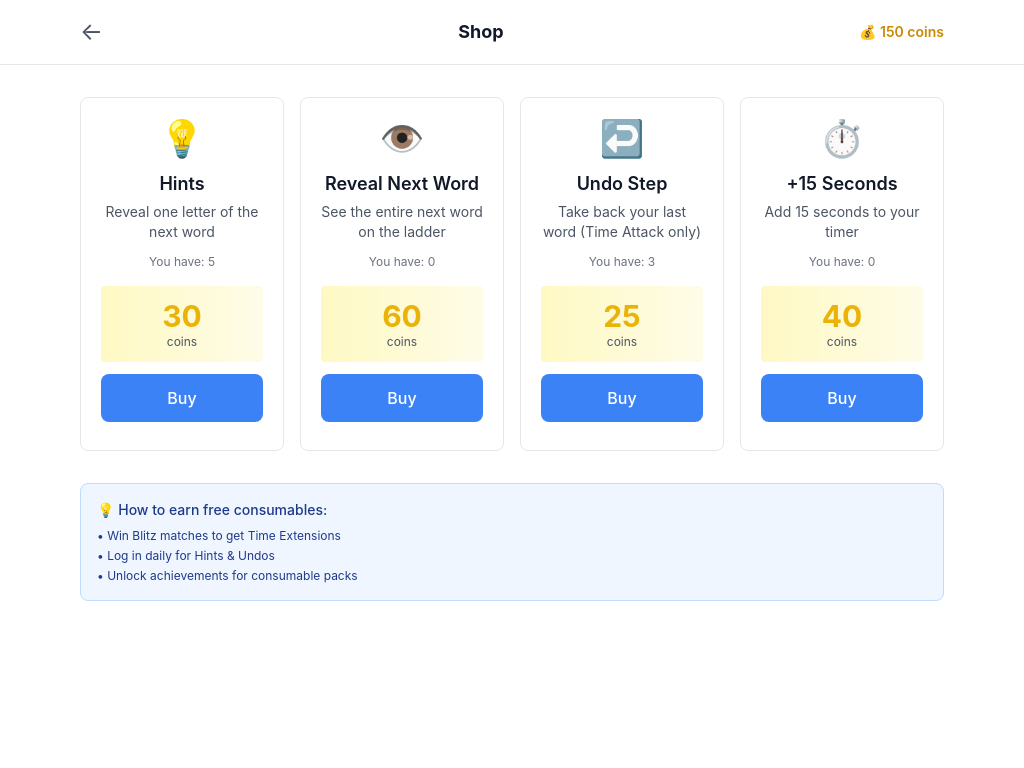
Test: ShopPage Integration Tests › Complete Purchase Flow › purchase multiple items sequentially updates wallet and inventory correctly
The image size is (1024, 768).
Expected: the text "💰 150 coins" is shown, [859,22,944,42]
Note: First purchase: Hints (30 coins, +5 hints)
Click the button with aria-label "Buy 5x Hints".
click(182, 398)  # box [101,374,263,422]
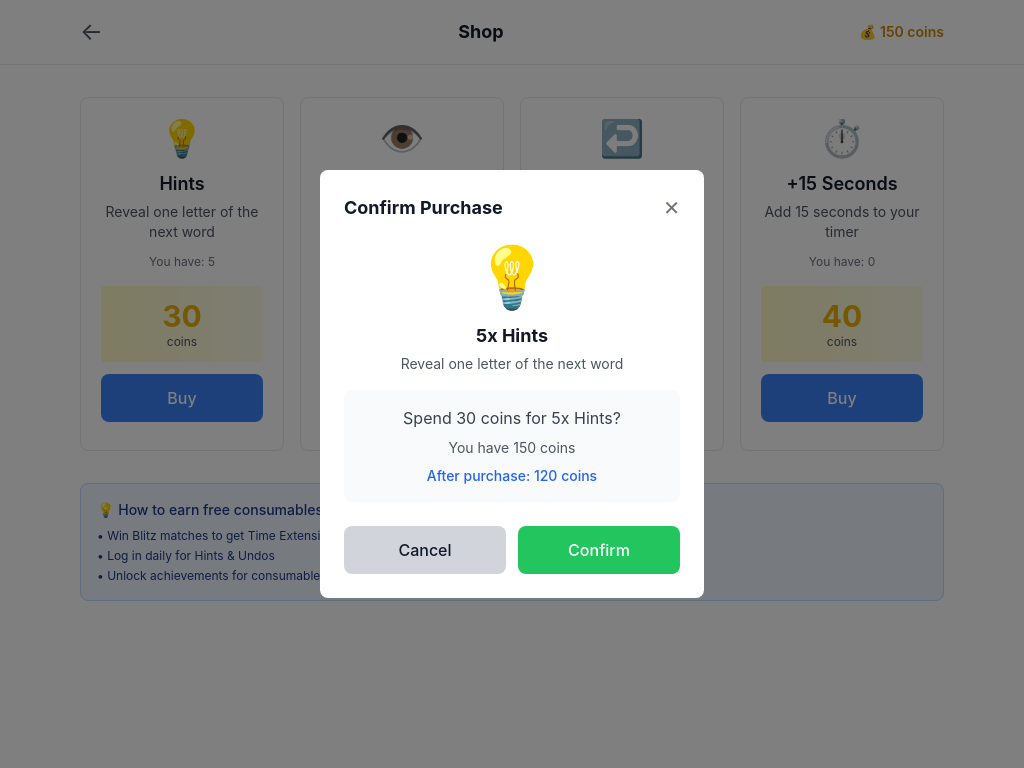
Expected: the dialog is shown, [320,170,704,598]
Click the button with aria-label "Confirm purchase".
click(599, 550)  # box [518,526,680,574]
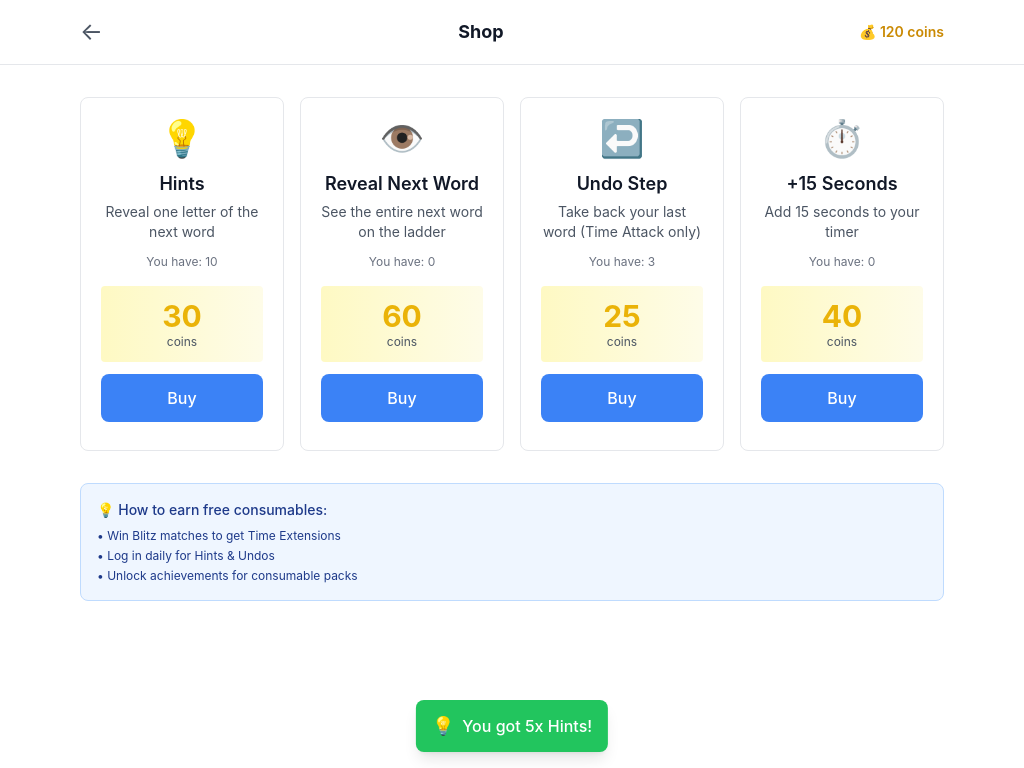
Expected: the text "You got 5x Hints!" is shown, [462,714,592,738]
Click the button with aria-label "Buy 3x Undo Step".
click(622, 398)  # box [541,374,703,422]
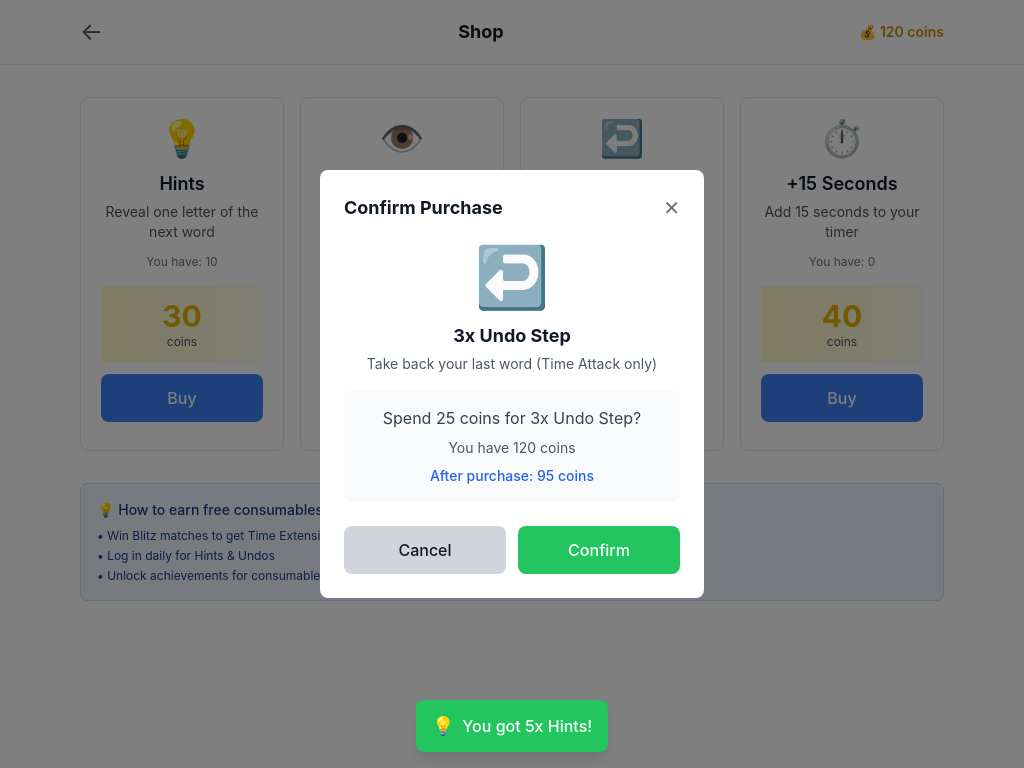
Expected: the dialog is shown, [320,170,704,598]
Click the button with aria-label "Confirm purchase".
click(599, 550)  # box [518,526,680,574]
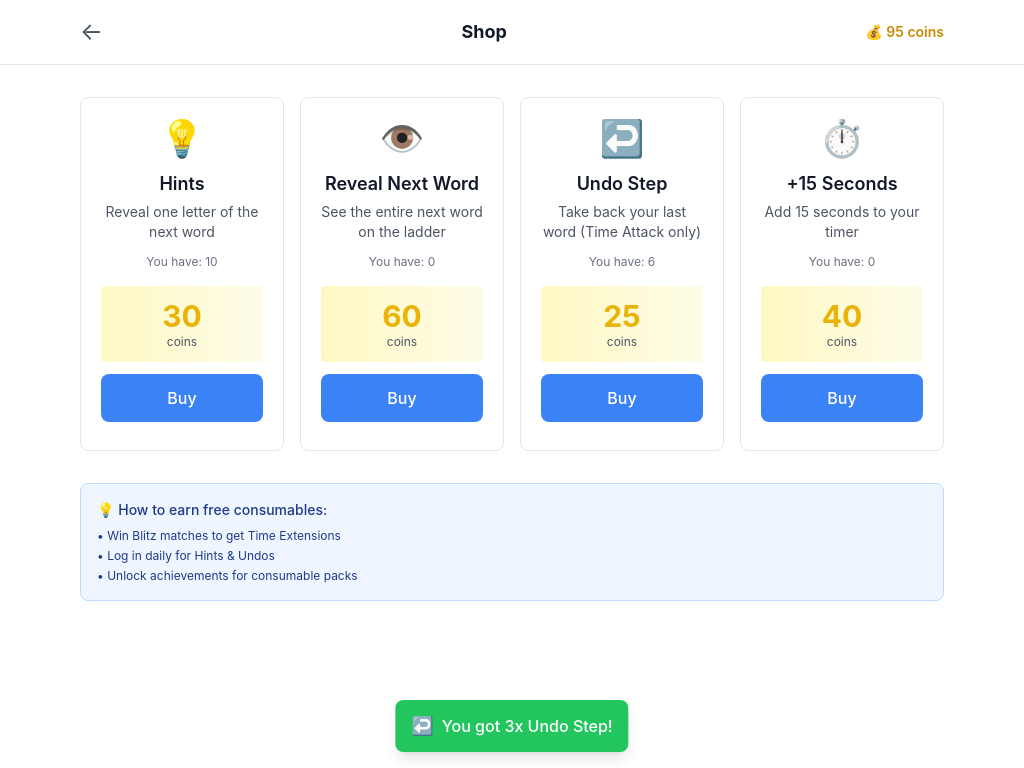
Expected: the text "You got 3x Undo Step!" is shown, [442,714,613,738]
